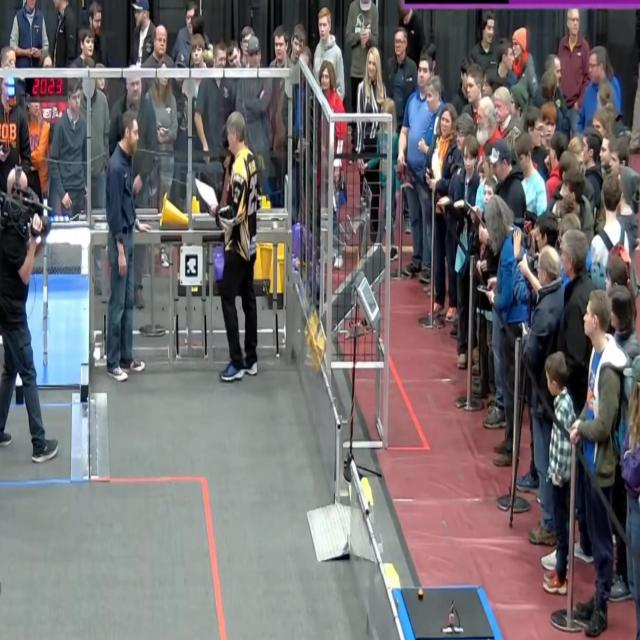frc_cone: (160, 194, 190, 230), (267, 256, 281, 299), (260, 237, 272, 280), (249, 242, 262, 280), (278, 238, 286, 268), (192, 197, 201, 212), (262, 195, 270, 208)
frc_cube: (210, 246, 224, 282), (292, 222, 303, 256)
